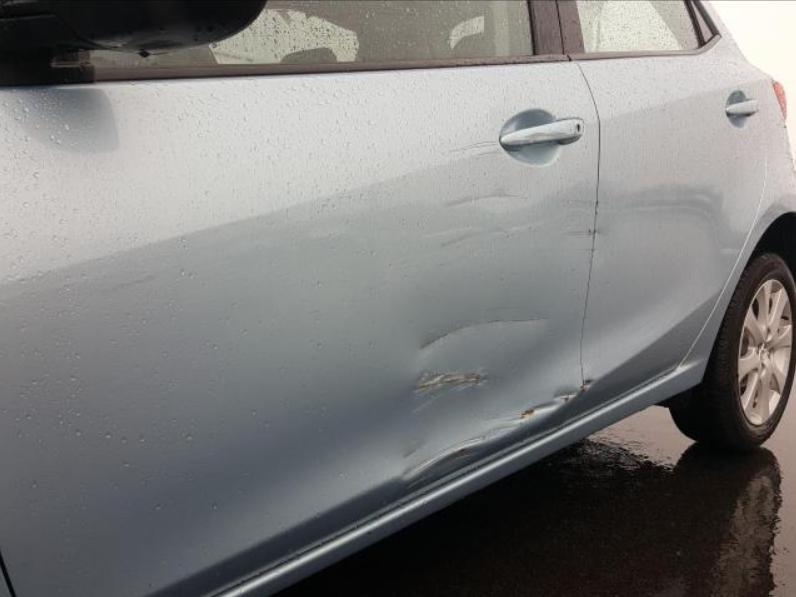Back-bumper: (772, 78, 788, 128)
Back-door: (557, 0, 769, 415)
Back-wheel: (667, 249, 796, 446)
Back-window: (574, 0, 714, 51)
Front-door: (0, 0, 601, 596)
Front-window: (54, 0, 534, 68)
Mirror: (0, 0, 265, 69)
Quarter-panel: (677, 30, 796, 369)
Rocker-panel: (217, 354, 709, 596)
